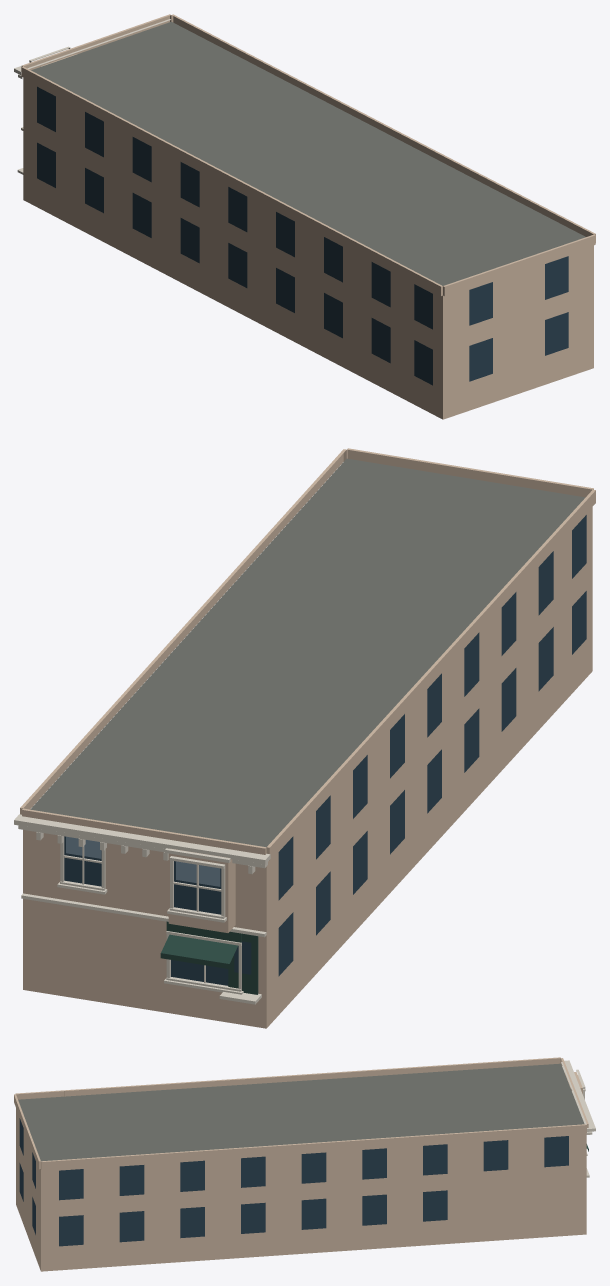
3 renders of one model, top to bottom at view 1: azimuth 30°, elevation 25°; view 2: azimuth 150°, elevation 25°; view 3: azimuth 270°, elevation 25°, orthographic. The views are drawn at different scales.
Visible parts, largest first — view 1: Footprint 0 / surface 2, Footprint 0 / surface 1, Inset glazing, Facade bay volumes, Cornices and window frames; view 2: Footprint 0 / surface 1, Footprint 0 / surface 2, Inset glazing, Facade bay volumes, Cornices and window frames, Storefronts and doors, Sky reflection panels; view 3: Footprint 0 / surface 2, Footprint 0 / surface 1, Inset glazing, Facade bay volumes, Cornices and window frames.
Boxes of the visible parts, x1=… form: Footprint 0 / surface 2: x1=23, y1=77, x2=593, y2=419; Footprint 0 / surface 1: x1=31, y1=21, x2=585, y2=285; Inset glazing: x1=37, y1=86, x2=568, y2=385; Facade bay volumes: x1=21, y1=14, x2=595, y2=296; Cornices and window frames: x1=14, y1=19, x2=170, y2=174; Footprint 0 / surface 1: x1=30, y1=458, x2=585, y2=847; Footprint 0 / surface 2: x1=23, y1=507, x2=592, y2=1028; Inset glazing: x1=64, y1=515, x2=586, y2=985; Facade bay volumes: x1=20, y1=448, x2=595, y2=932; Cornices and window frames: x1=14, y1=814, x2=270, y2=1004; Storefronts and doors: x1=160, y1=921, x2=258, y2=994; Sky reflection panels: x1=66, y1=836, x2=220, y2=886; Footprint 0 / surface 2: x1=16, y1=1108, x2=586, y2=1271; Footprint 0 / surface 1: x1=18, y1=1063, x2=584, y2=1161; Inset glazing: x1=19, y1=1118, x2=568, y2=1246; Facade bay volumes: x1=14, y1=1057, x2=588, y2=1169; Cornices and window frames: x1=561, y1=1060, x2=595, y2=1177.
Bounding box in the file's own units: 14.52 × 7.07 × 33.81.
